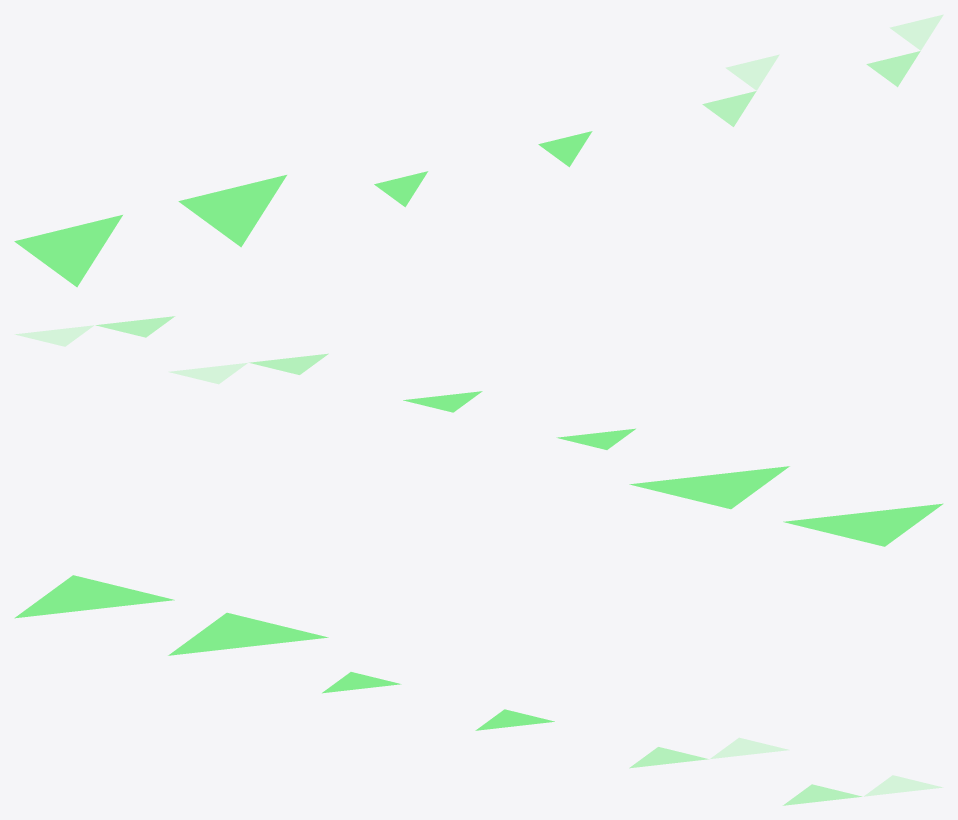
The model's file is material_modes.glb.
The picture shows the model from 3 angles, top to bottom: view 1: azimuth 30°, elevation 25°; view 2: azimuth 150°, elevation 25°; view 3: azimuth 330°, elevation 25°; orthographic projection. The views are drawn at different scales.
Bounding box in the file's own units: 8.5 × 0 × 1.
6 materials, 6 textured.
